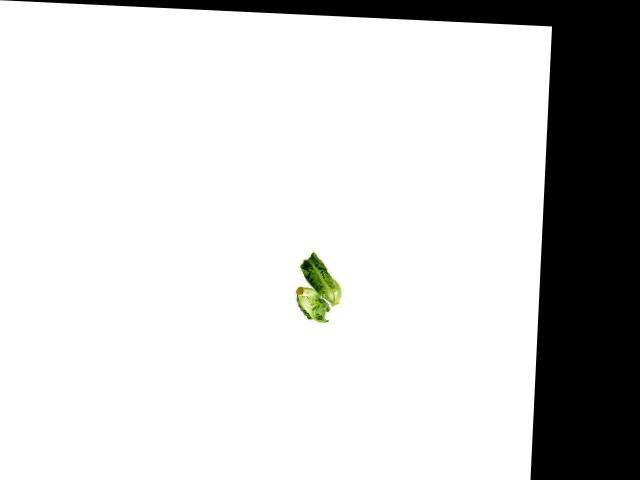lettuce: (289, 283, 332, 324)
